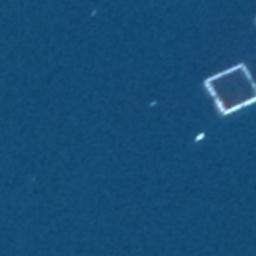square_solid: (199, 60, 256, 121)
